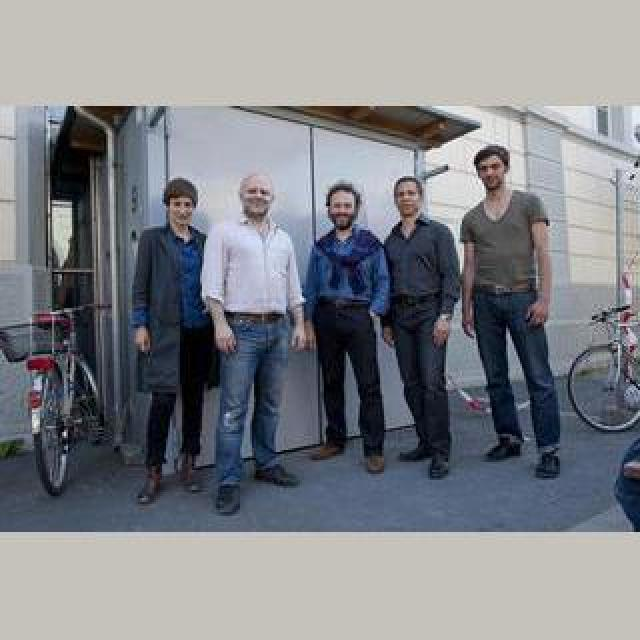Bus-Bike: (612, 436, 640, 530)
MC-Bike: (202, 170, 308, 502), (458, 148, 562, 472), (128, 178, 218, 506), (304, 180, 390, 478), (382, 170, 460, 474)
Person: (1, 303, 109, 497), (568, 300, 640, 432)
